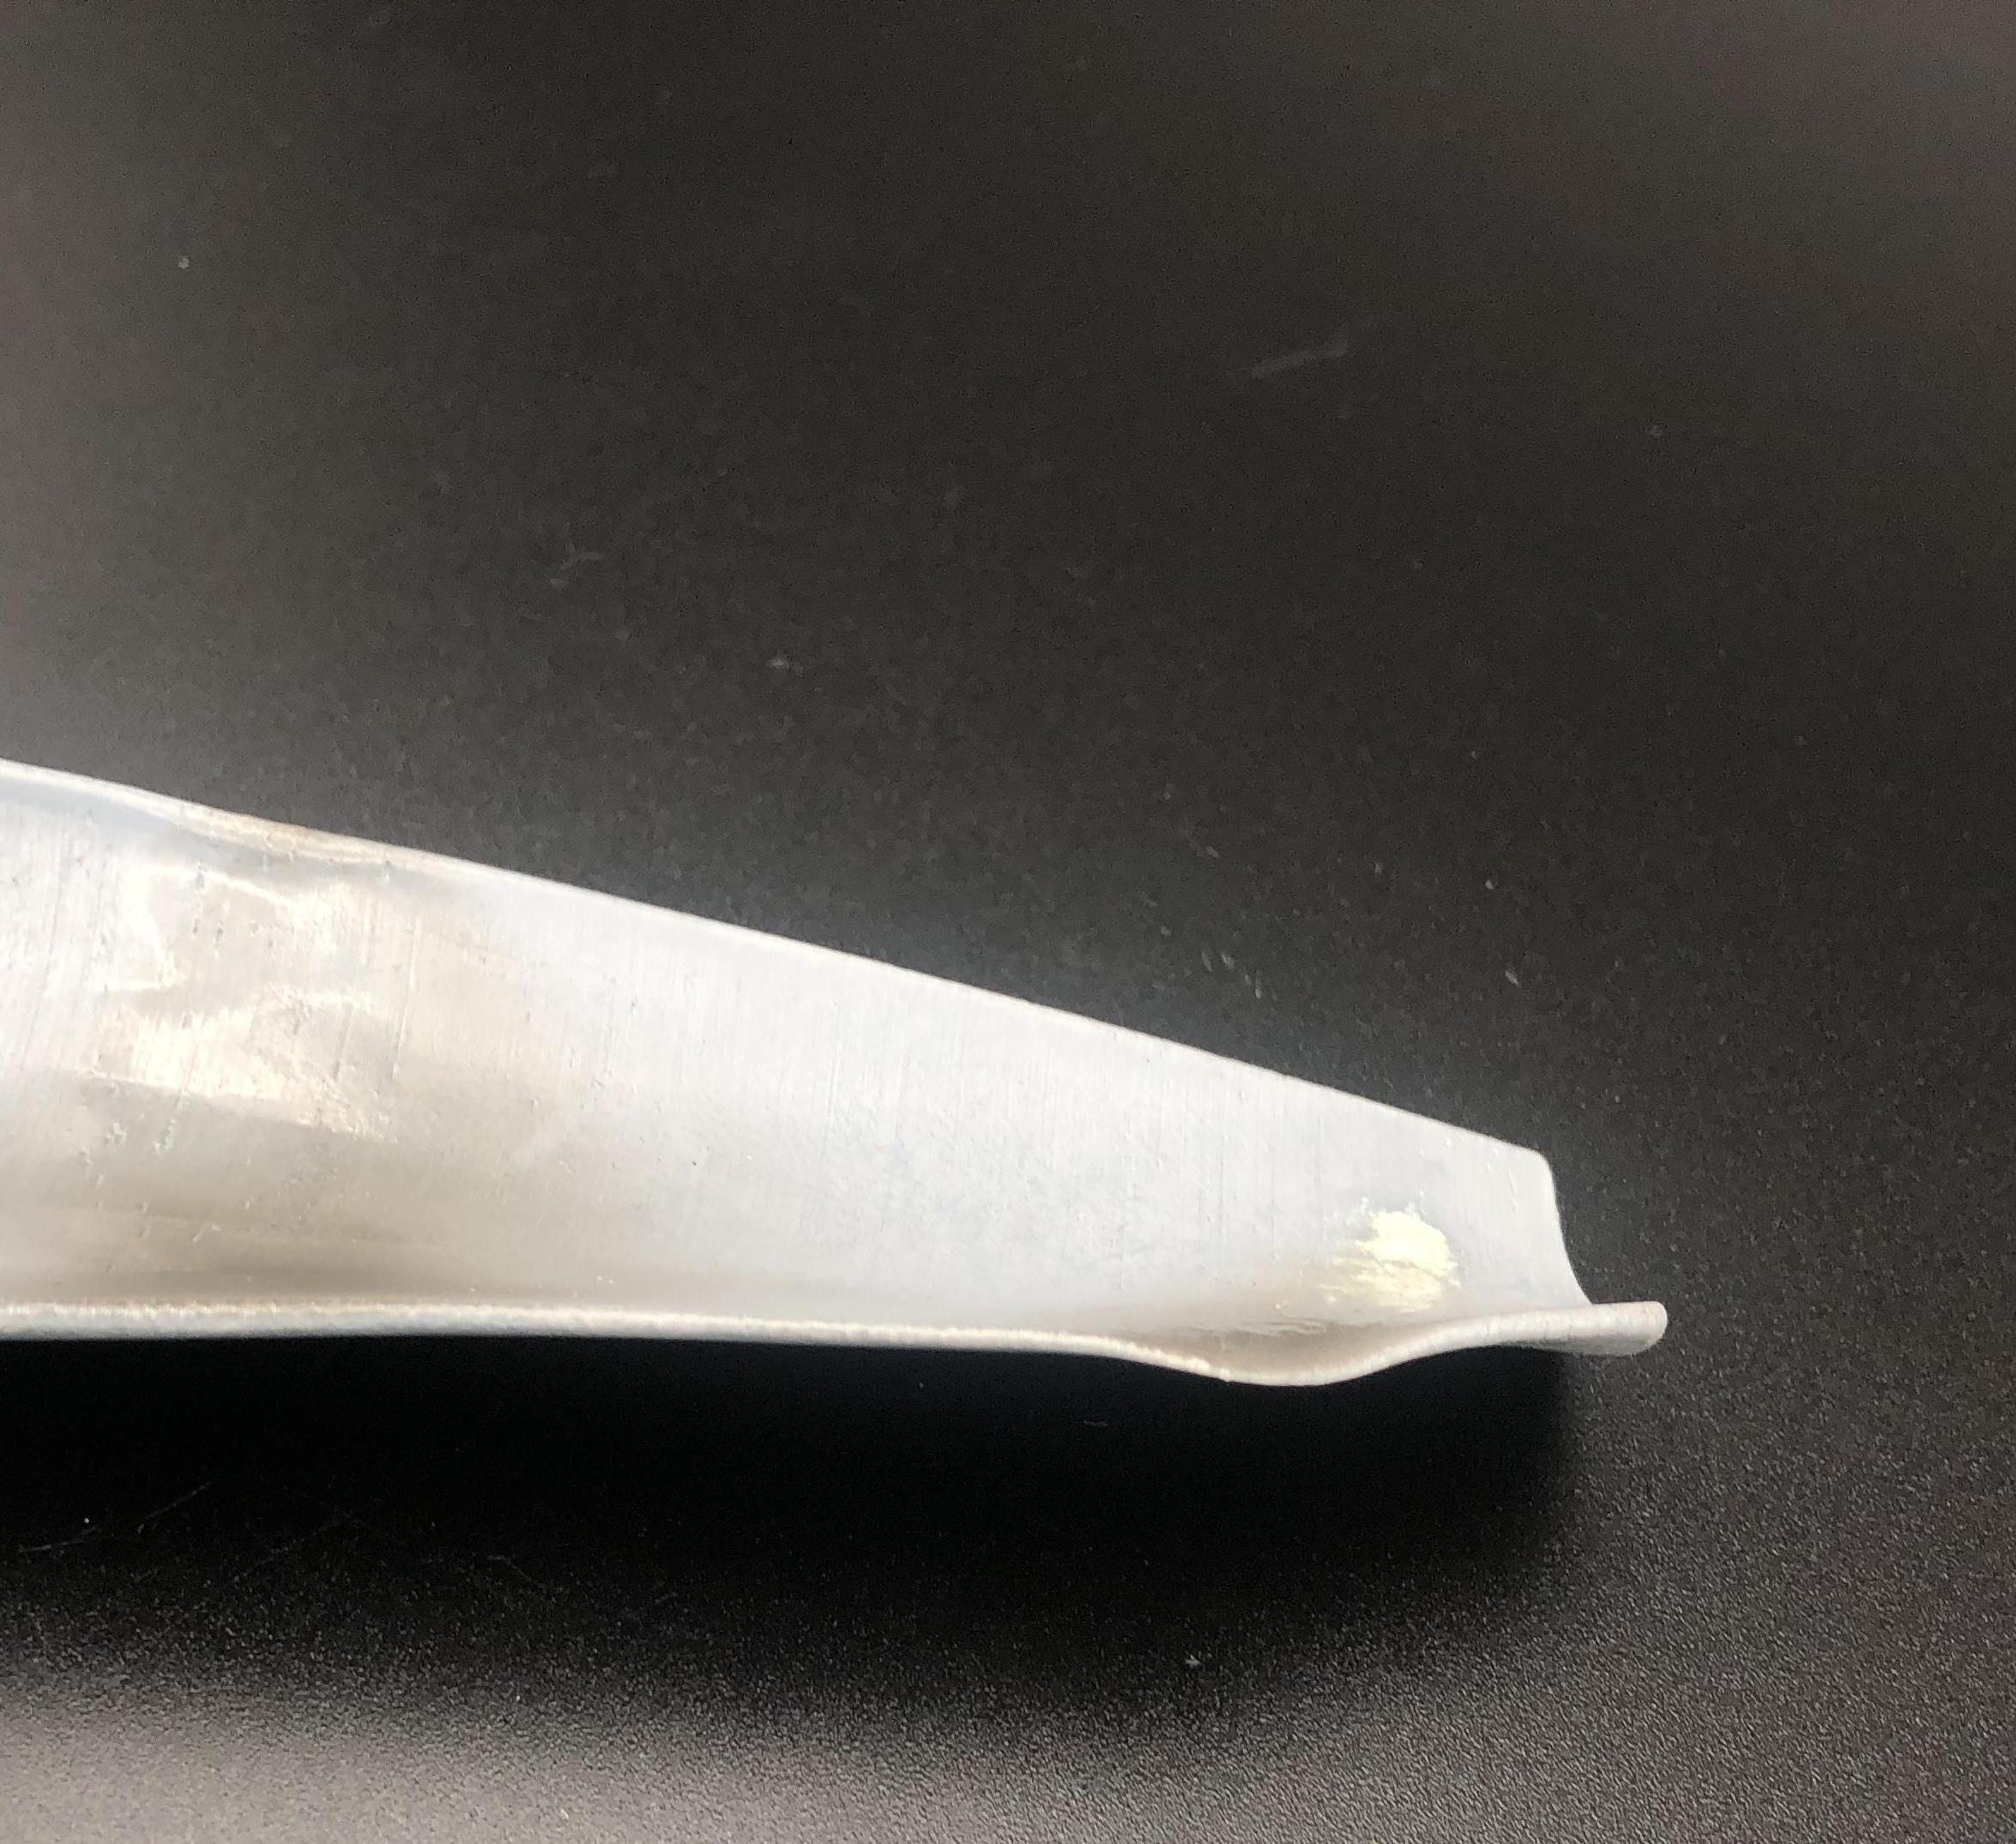ablation: (58, 1033, 634, 1303), (1156, 1242, 1489, 1366)
